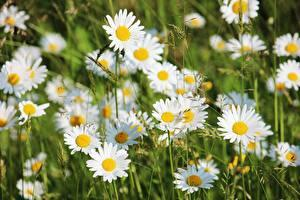chamomile: (84, 145, 133, 180), (57, 123, 103, 160), (0, 96, 47, 132), (221, 108, 266, 145), (217, 31, 270, 60), (103, 118, 140, 154), (211, 2, 265, 26), (123, 35, 163, 67), (100, 18, 145, 46), (0, 61, 30, 98), (174, 162, 213, 190), (271, 59, 300, 95), (152, 95, 183, 125), (151, 63, 175, 94), (184, 92, 201, 135), (273, 37, 300, 59), (1, 10, 25, 33)
